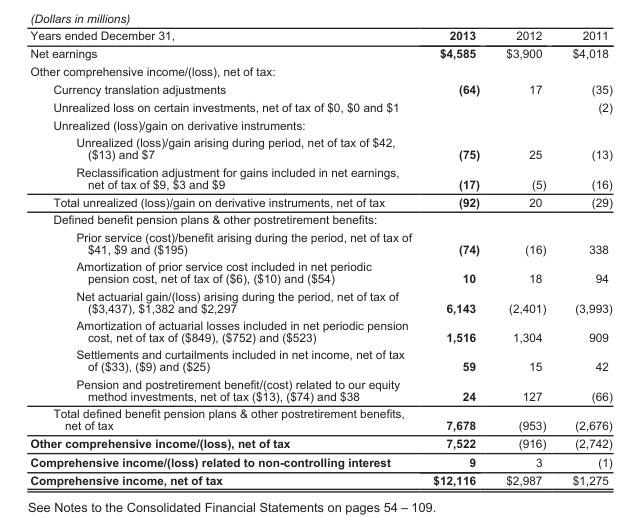table: (29, 28, 611, 486)
table column: (29, 28, 421, 486), (421, 28, 492, 486), (492, 28, 558, 486), (558, 28, 611, 486)
table column header: (29, 28, 611, 44)
table projected row header: (29, 62, 611, 80), (29, 115, 611, 133), (29, 210, 611, 228)
table row: (29, 162, 611, 192), (29, 286, 611, 316), (29, 374, 611, 404), (29, 133, 611, 162), (29, 228, 611, 257), (29, 257, 611, 286), (29, 316, 611, 345), (29, 345, 611, 374), (29, 404, 611, 433), (29, 433, 611, 452), (29, 44, 611, 62), (29, 62, 611, 80), (29, 97, 611, 115), (29, 115, 611, 133), (29, 192, 611, 210), (29, 210, 611, 228), (29, 452, 611, 470), (29, 80, 611, 97), (29, 28, 611, 44), (29, 470, 611, 486)
